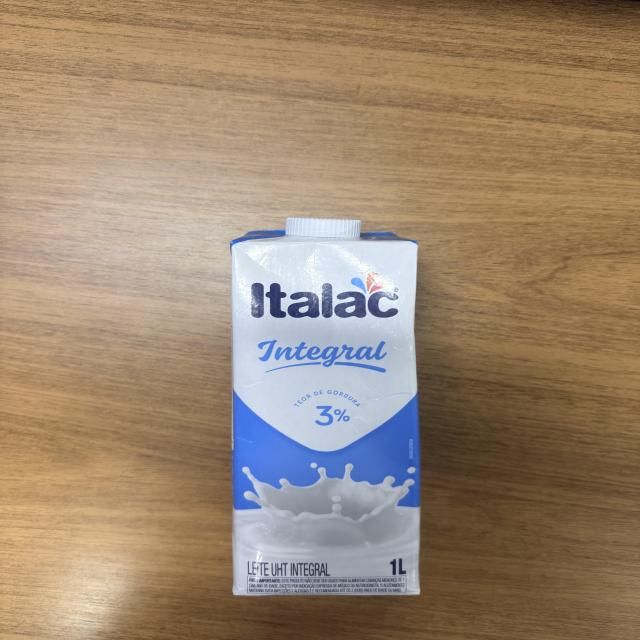Caixa de Leite: (235, 226, 431, 592)
